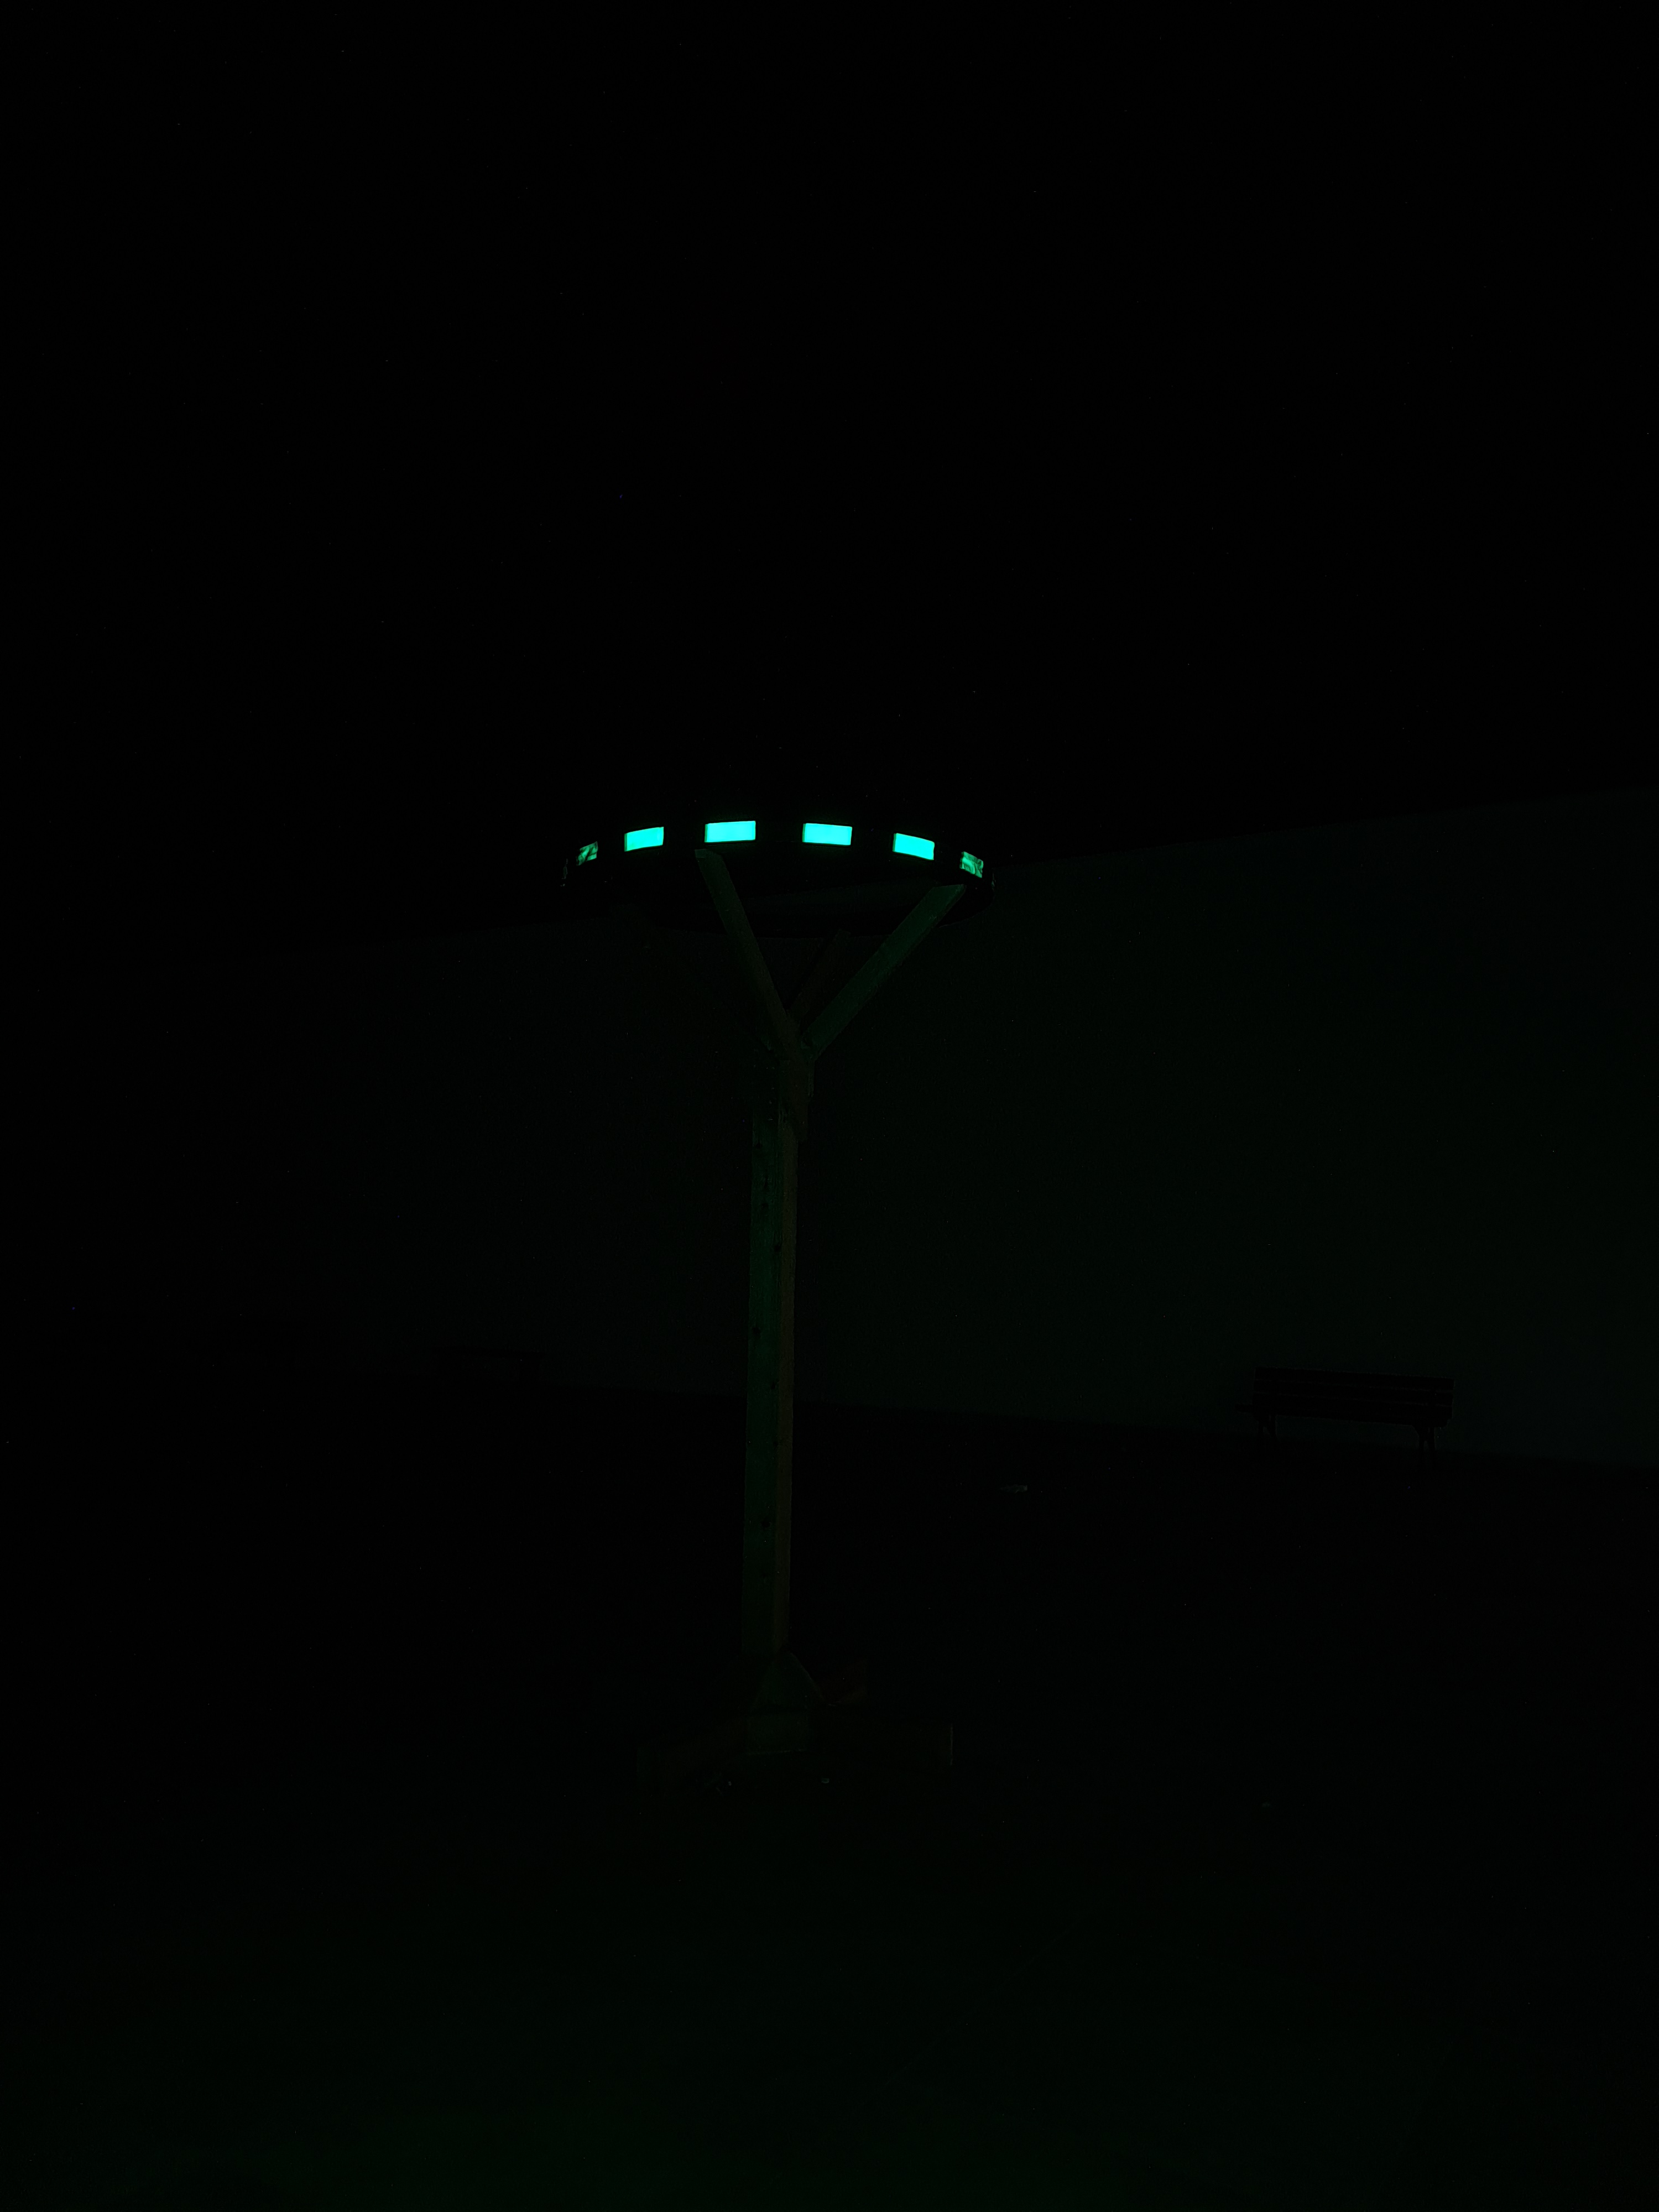hoop: (580, 812, 985, 880)
